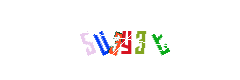3: (82, 0, 162, 80), (100, 0, 180, 80)
5: (62, 0, 142, 80)
T: (112, 0, 192, 80)
U: (79, 0, 159, 80)
Y: (96, 0, 176, 80)
